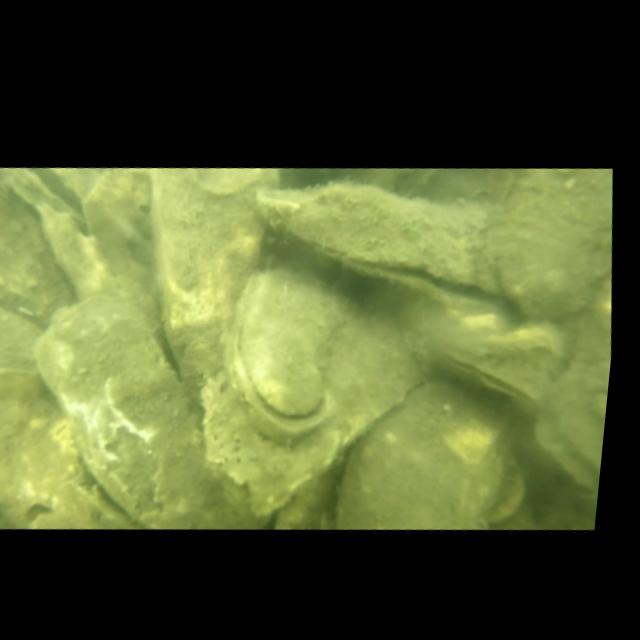Oyster-Closed: (210, 253, 367, 450), (392, 283, 557, 421)
Oyster-Indeterminate: (11, 271, 231, 544), (127, 156, 300, 394), (324, 363, 530, 545), (0, 349, 161, 545), (186, 355, 353, 523), (74, 162, 169, 297), (20, 193, 120, 307)
Oyster-Open: (243, 159, 514, 329)
